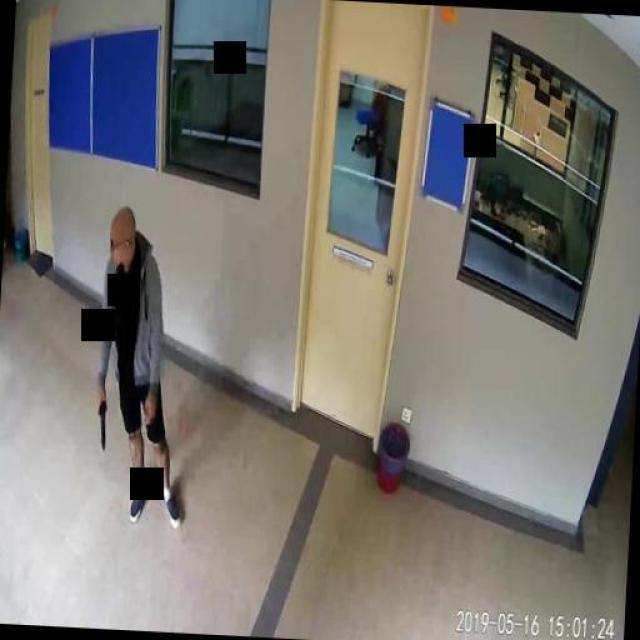gun: (94, 394, 106, 446)
